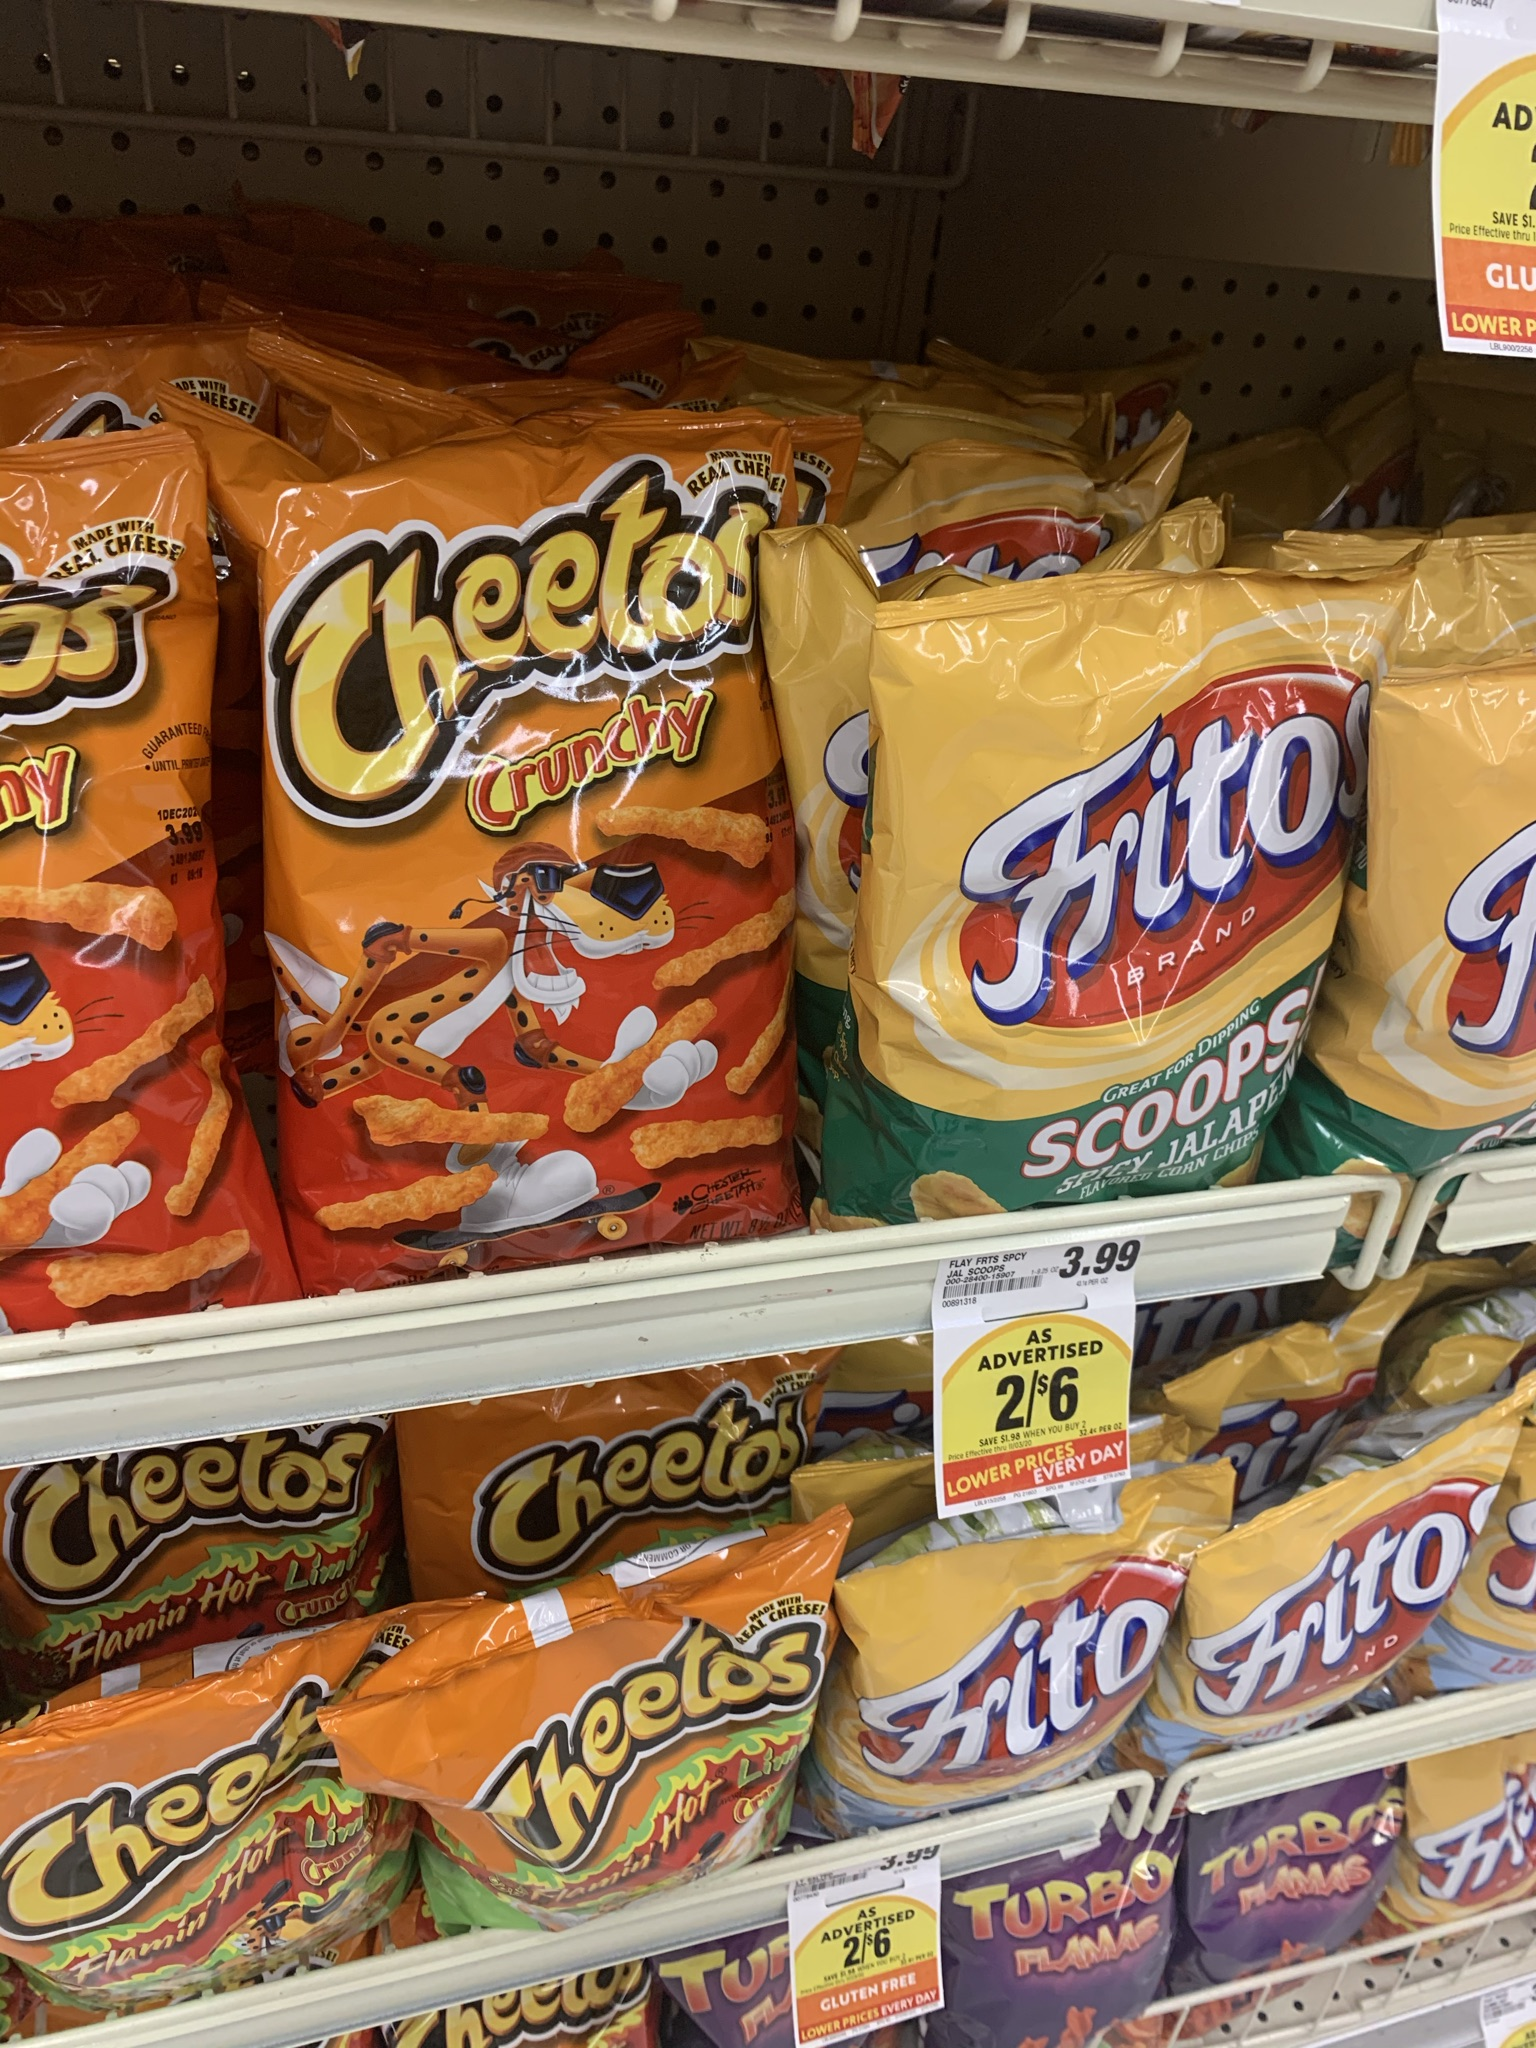cheetos chips: (229, 466, 794, 1211), (2, 1755, 415, 1951), (408, 1680, 802, 1838), (10, 1469, 387, 1600), (424, 1416, 812, 1500)
fritos chips: (897, 624, 1279, 1179), (854, 1587, 1158, 1784), (1234, 1561, 1413, 1696)
turbo flame chips: (957, 1879, 1176, 2046)
